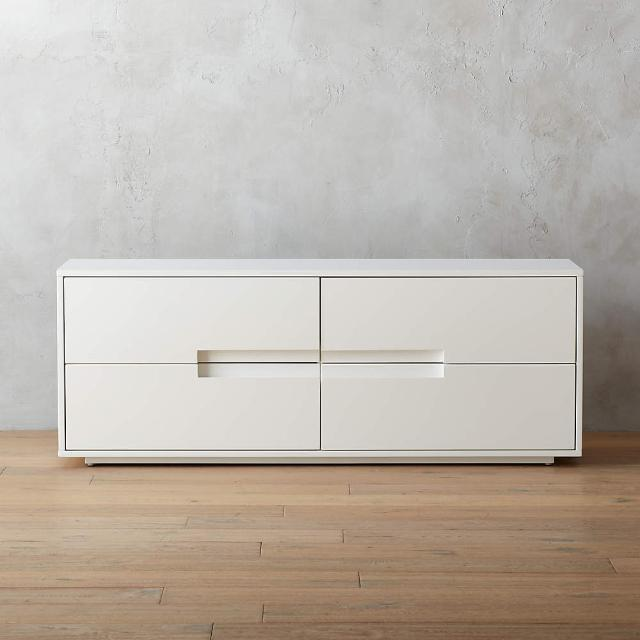dresser: (50, 248, 591, 456)
